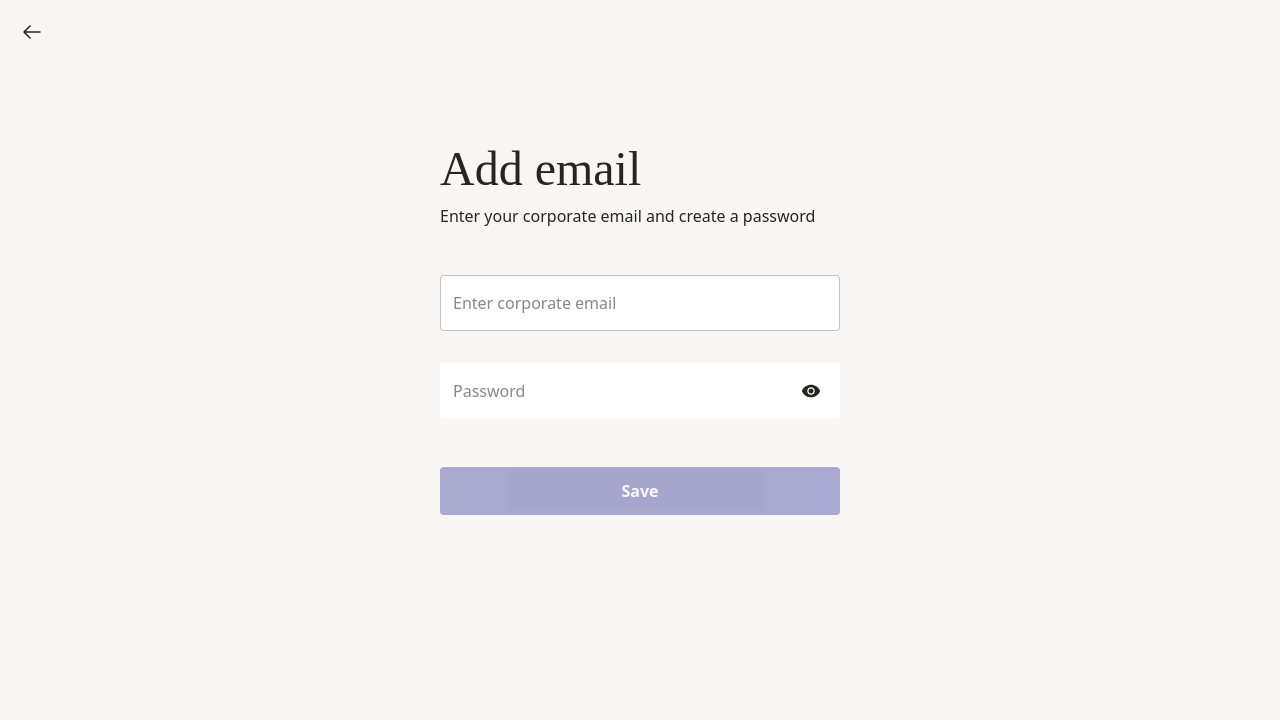
AddEmailModal (#1459) › enables once both fields are valid
This screenshot has width=1280, height=720.
Type "lp@example.com" into the field with placeholder "Enter corporate email" at (640, 303), box [453,292,827,314]
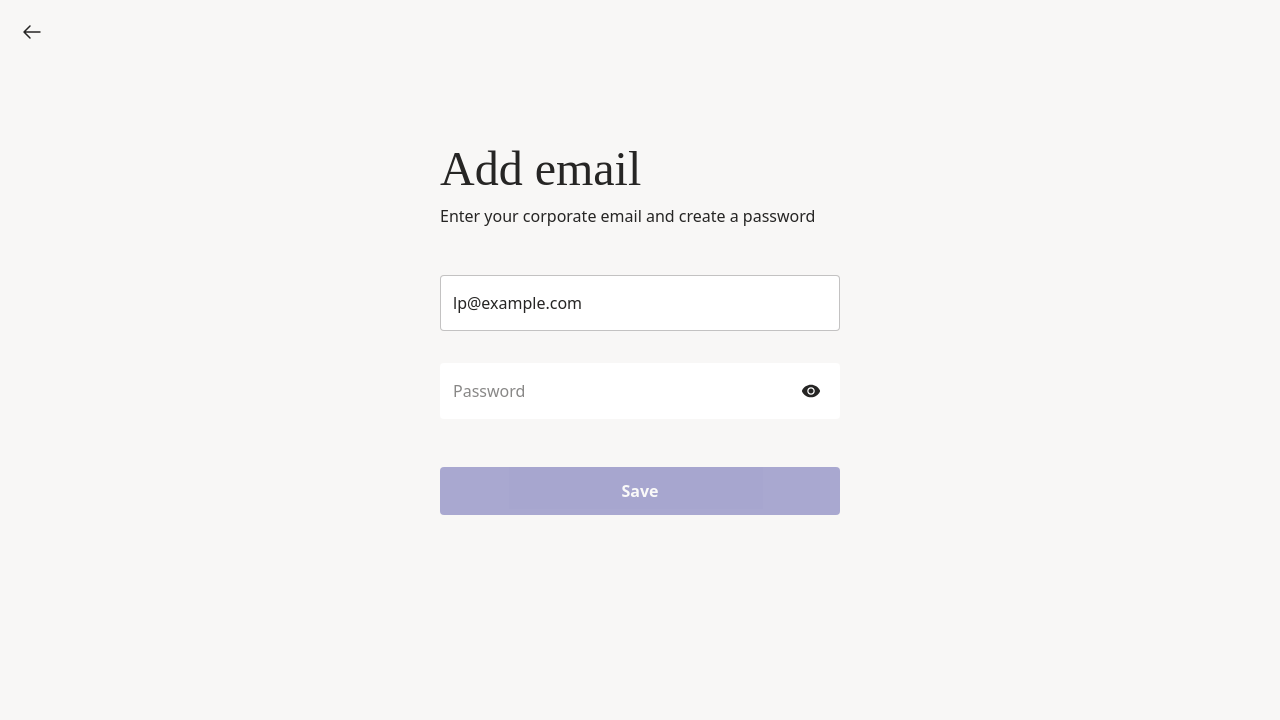
Type "P@ssw0rd!" into the password field with placeholder "Password" at (622, 391), box [453,380,791,402]
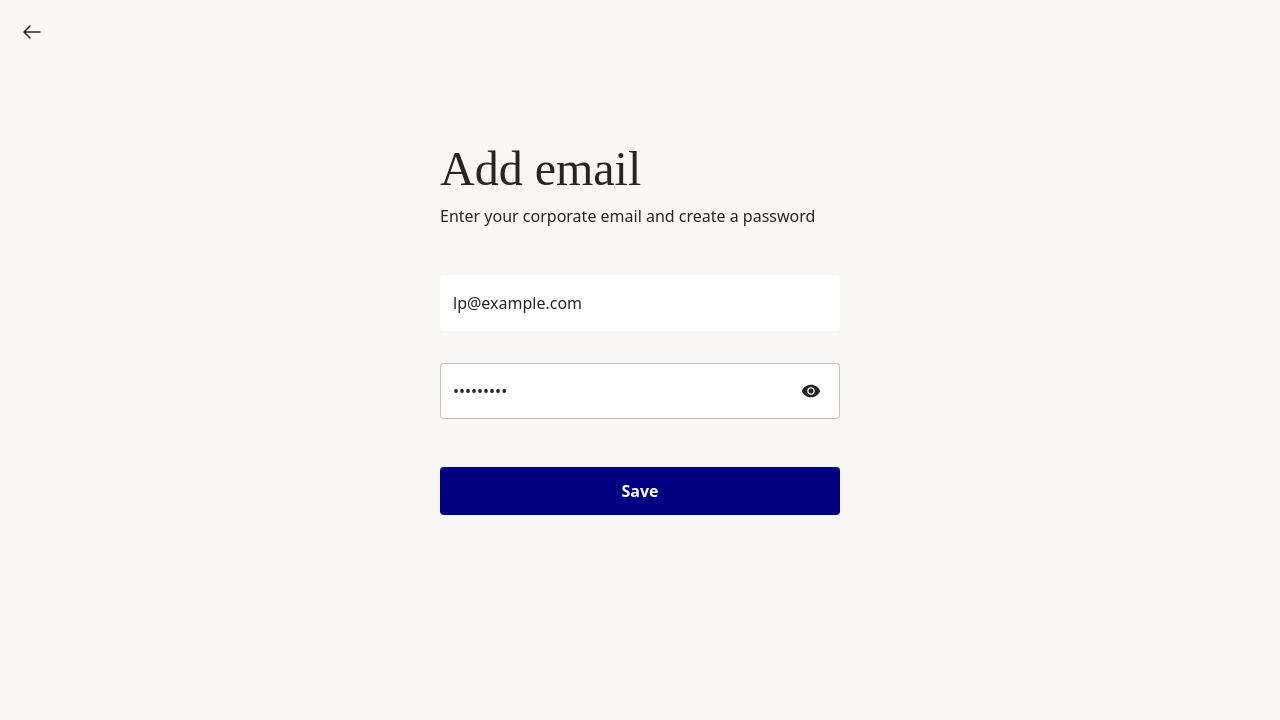
Expected: the button "Save" is enabled, [440,467,840,515]
